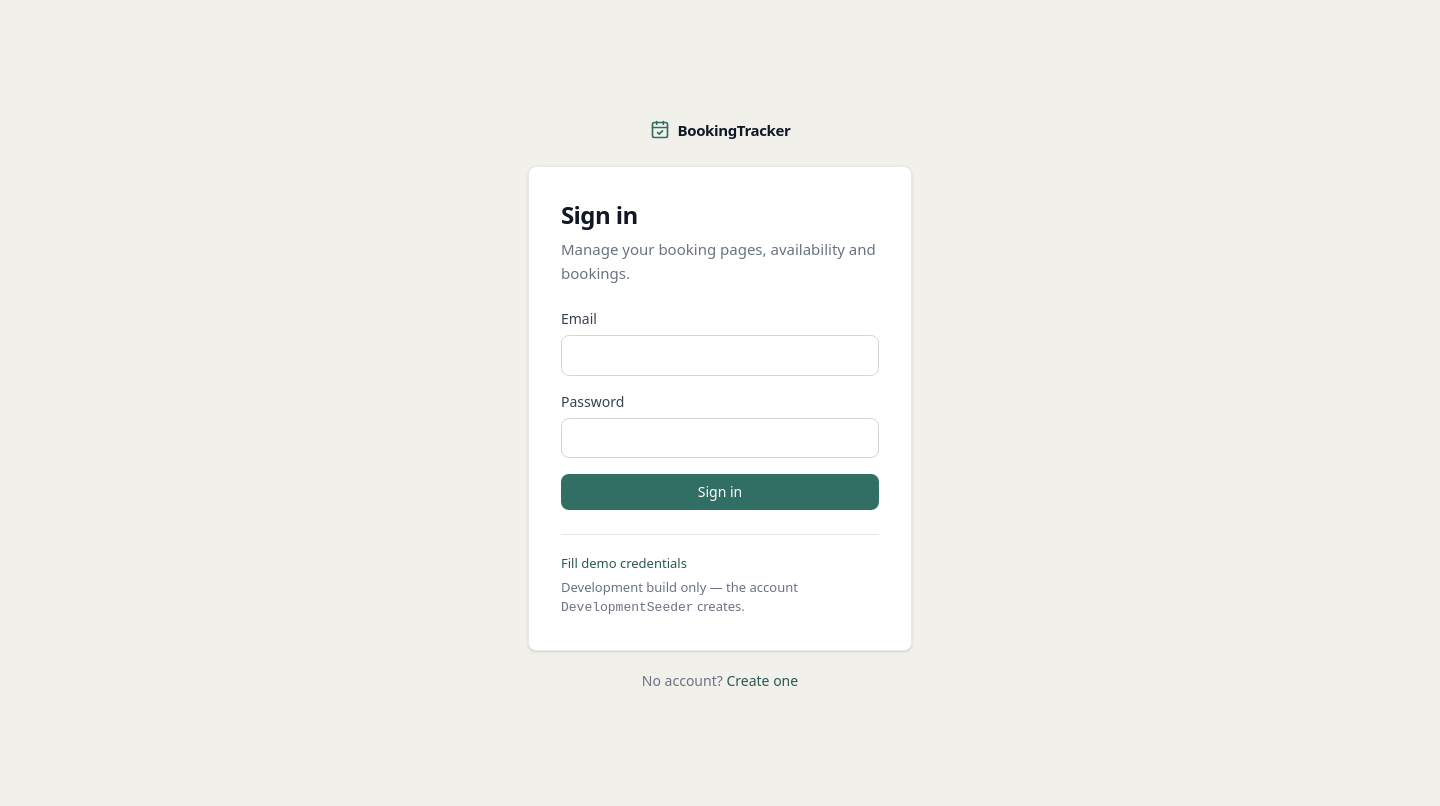
Test: signing in returns you to where you were going › returns to the original route, not the default dashboard
This screenshot has width=1440, height=806.
Type "organizer@example.com" into the field labelled "Email" at (720, 356), box [561,335,879,376]
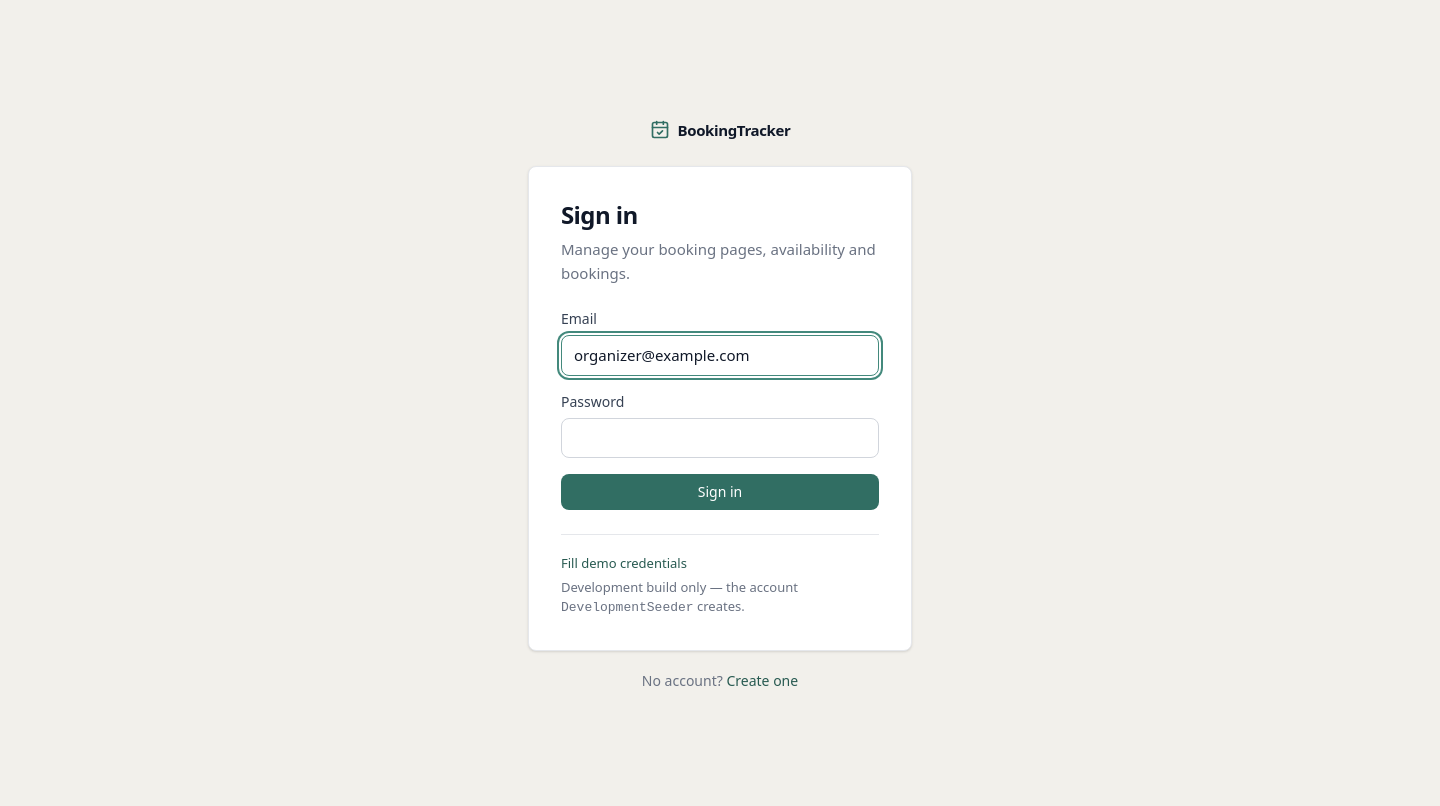
Type "Passw0rd!" into the password field labelled "Password" at (720, 438), box [561,418,879,458]
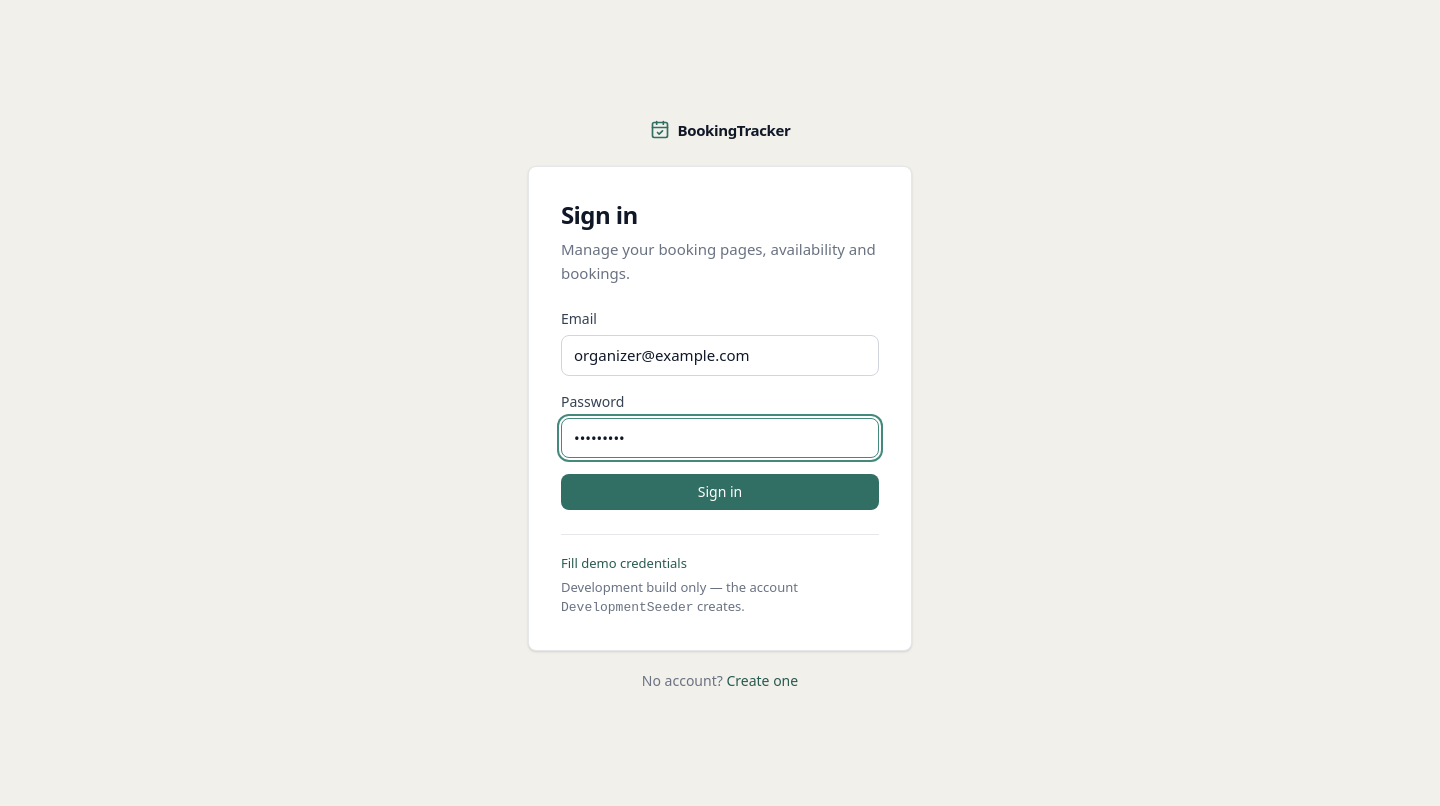
Click the button "Sign in" at (720, 492), box [561,474,879,510]
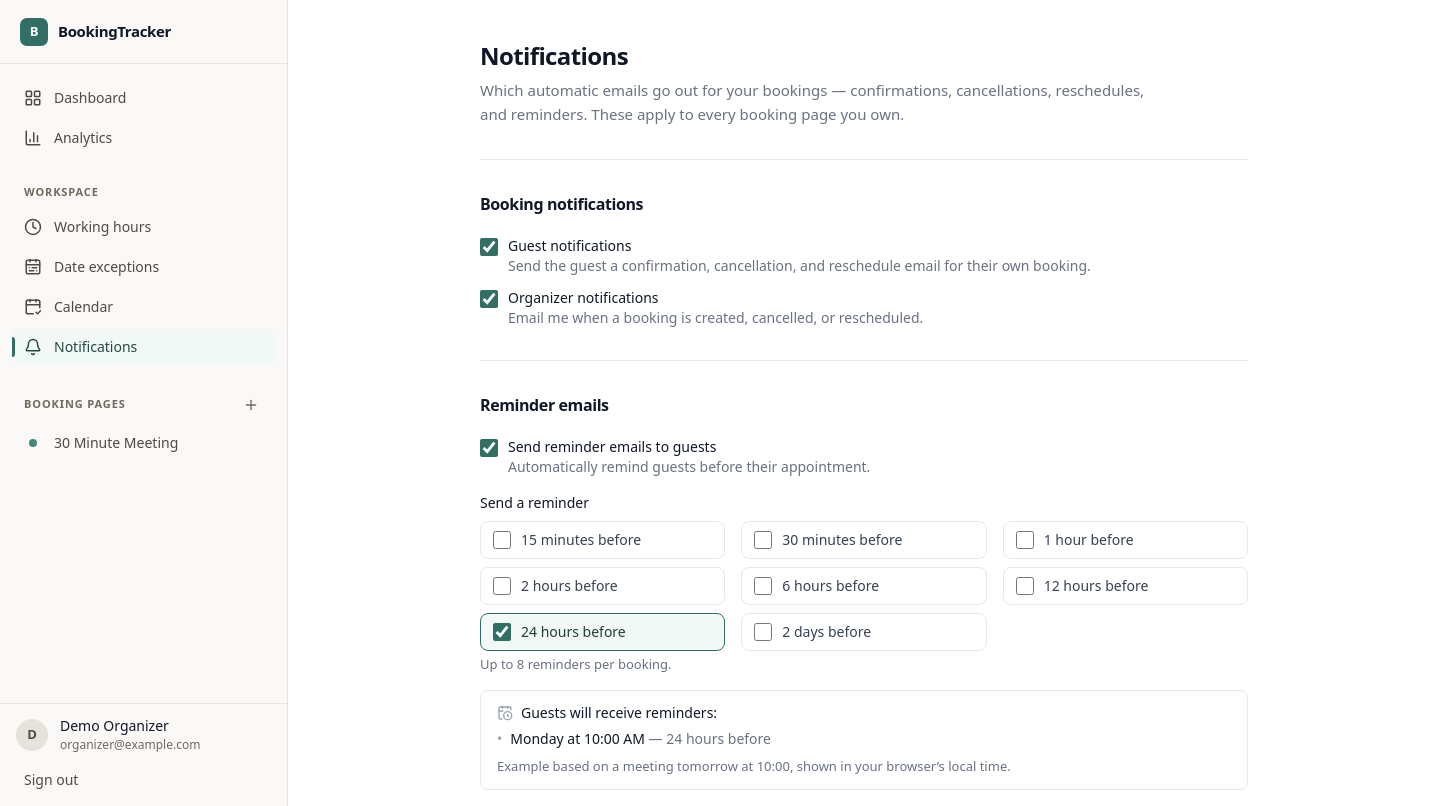
expect the heading "Notifications" is shown: met, box [480,39,628,72]
